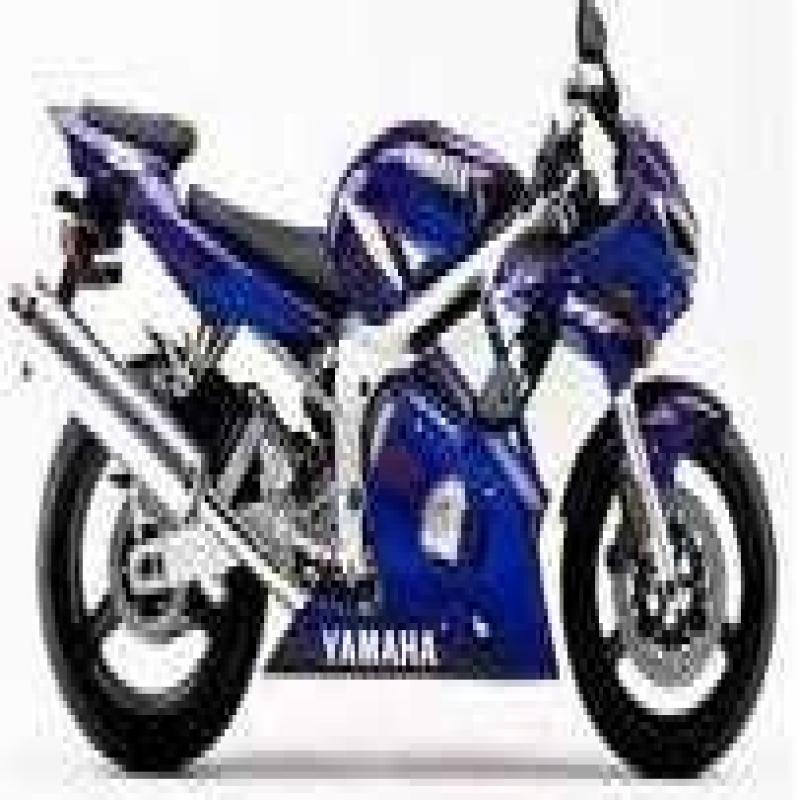bike: (0, 0, 784, 765)
